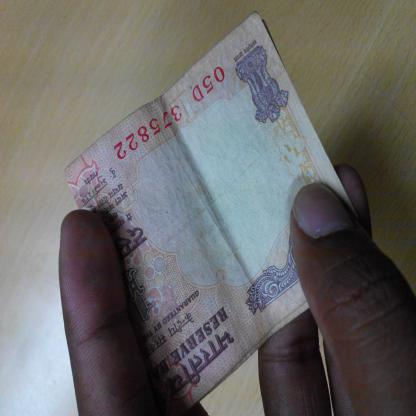Old10Front: (64, 10, 354, 414)
